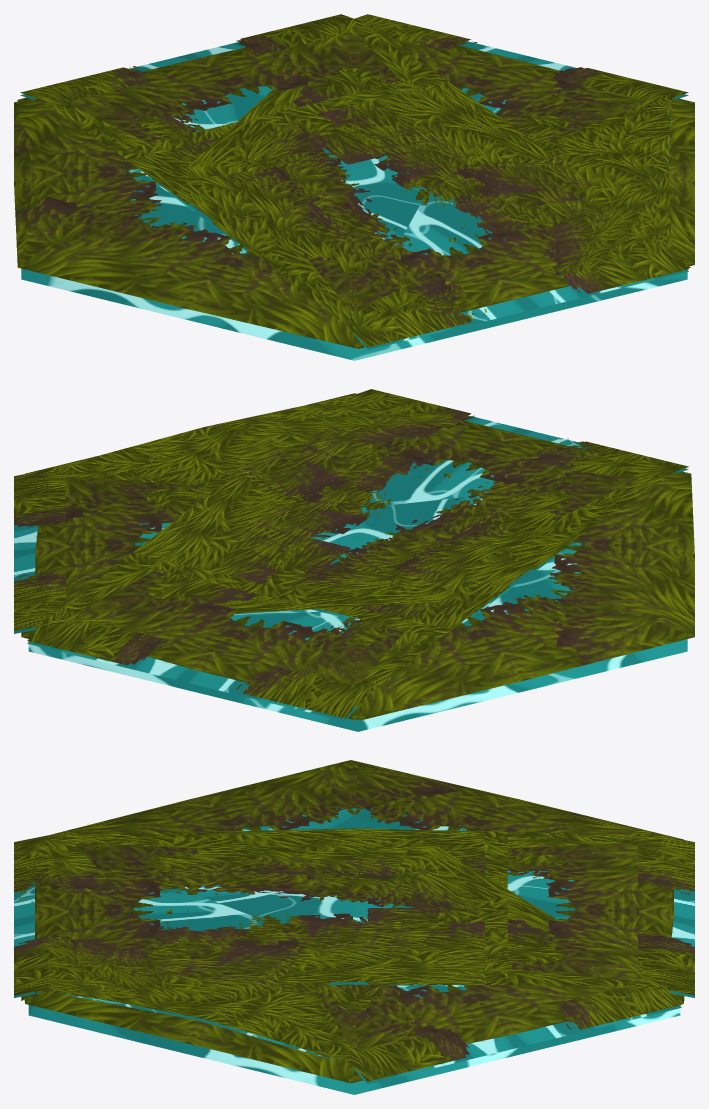
The model's file is RiverTile2.fbx.
3 views of the same model, one above another, from view 1: azimuth 30°, elevation 25°; view 2: azimuth 150°, elevation 25°; view 3: azimuth 270°, elevation 25° (orthographic). The views are drawn at different scales.
Visible parts, largest first — view 1: Path.Curve.Smooth, Path.Straight, River.Single.A, River.Tripple.C, River.Tripple.B, River.Double.A, WaterTile, River.Quad.D, River.Dot, Path.Straight.End, River.Tripple.D, River.Tripple.A (+3 smaller); view 2: Path.Straight, Path.Curve.Smooth, River.Single.A, River.Tripple.C, River.Tripple.B, River.Double.A, WaterTile, Path.Straight.End, River.Quad.D, River.Tripple.D, River.Dot, River.Tripple.A (+5 smaller); view 3: Path.Curve.Smooth, Path.Straight, River.Single.A, River.Double.A, River.Quad.D, WaterTile, River.Tripple.C, River.Dot, Path.Straight.End, River.Tripple.A, River.Tripple.B, River.Tripple.D (+3 smaller).
Part boxes in pixels (<box>): Path.Curve.Smooth: <box>186,14,688,349</box>; Path.Straight: <box>20,14,585,326</box>; River.Single.A: <box>14,33,694,348</box>; River.Tripple.C: <box>14,33,599,348</box>; River.Tripple.B: <box>15,60,609,346</box>; River.Double.A: <box>17,35,691,283</box>; WaterTile: <box>21,167,687,360</box>; River.Quad.D: <box>18,72,694,267</box>; River.Dot: <box>355,222,561,312</box>; Path.Straight.End: <box>116,73,688,349</box>; River.Tripple.D: <box>94,35,691,348</box>; River.Tripple.A: <box>14,35,452,206</box>; Path.Straight: <box>27,421,670,721</box>; Path.Curve.Smooth: <box>14,389,688,633</box>; River.Single.A: <box>26,393,694,719</box>; River.Tripple.C: <box>21,446,694,719</box>; River.Tripple.B: <box>51,476,693,719</box>; River.Double.A: <box>21,448,664,719</box>; WaterTile: <box>28,540,687,731</box>; Path.Straight.End: <box>122,414,688,638</box>; River.Quad.D: <box>25,393,694,651</box>; River.Tripple.D: <box>22,394,690,713</box>; River.Dot: <box>374,424,580,495</box>; River.Tripple.A: <box>23,587,508,719</box>; Path.Curve.Smooth: <box>14,835,681,1084</box>; Path.Straight: <box>14,828,694,997</box>; River.Single.A: <box>24,762,681,1083</box>; River.Double.A: <box>54,768,683,1082</box>; River.Quad.D: <box>25,760,459,1083</box>; WaterTile: <box>28,807,680,1094</box>; River.Tripple.C: <box>35,765,683,1071</box>; River.Dot: <box>35,856,165,951</box>; Path.Straight.End: <box>14,831,507,997</box>; River.Tripple.A: <box>467,804,684,1012</box>; River.Tripple.B: <box>80,760,683,1068</box>; River.Tripple.D: <box>26,801,683,1050</box>.
Size of the model in its own units: 10.79 by 0.4765 by 9.56.
